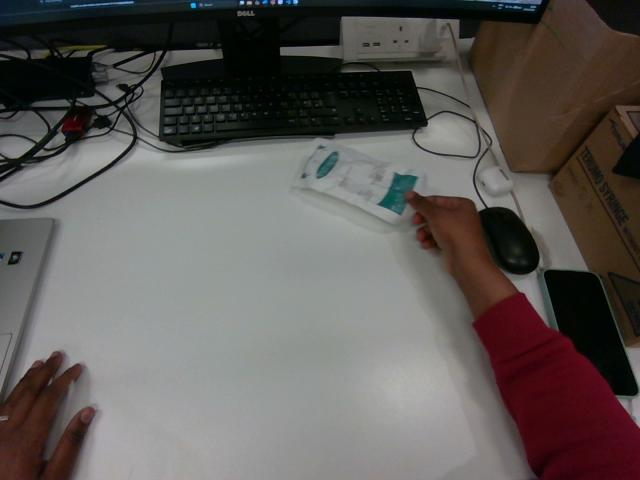gallipot: (293, 140, 425, 224)
